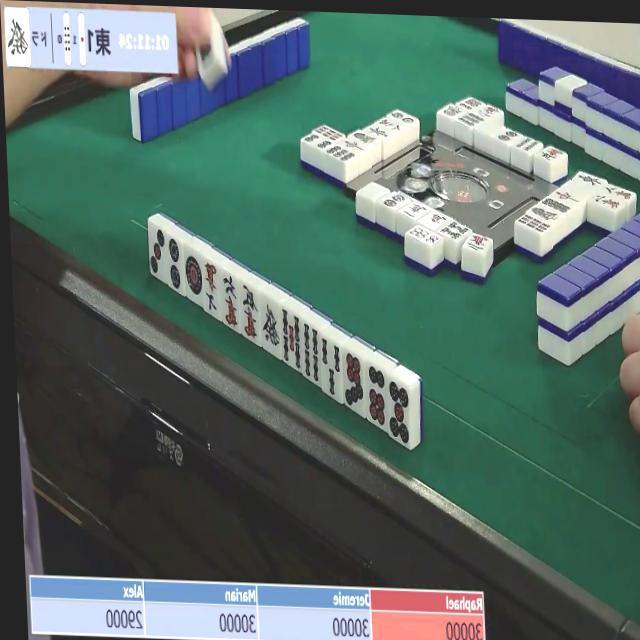fa: (4, 9, 29, 66), (258, 300, 280, 355)
m5: (236, 281, 259, 343)
m6: (218, 271, 240, 330)
m7: (199, 258, 221, 318)
s3: (320, 338, 345, 402)
s4: (299, 324, 321, 388)
s5: (280, 310, 305, 372)
t1: (182, 250, 203, 306)
t2: (164, 235, 184, 294)
t3: (148, 223, 167, 279)
t5: (384, 379, 413, 449)
t6: (363, 364, 390, 431)
t7: (342, 350, 367, 413)
